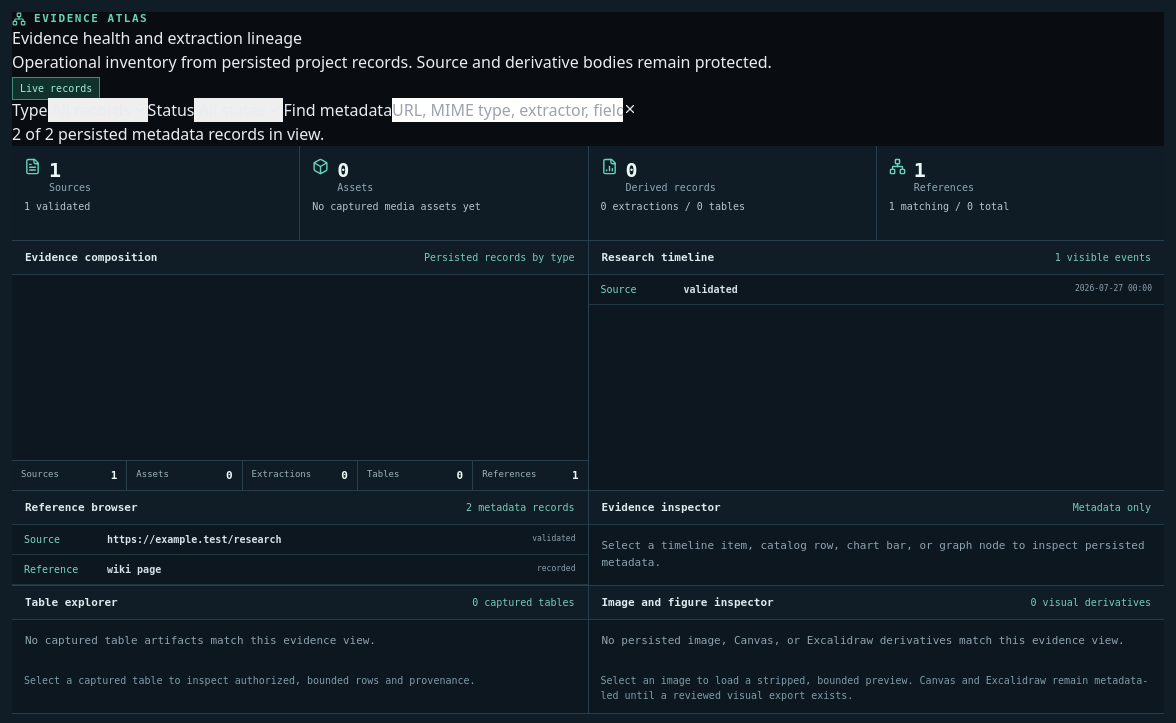
Scenario: EvidenceWorkspace graph projection › uses the composition controls to filter the persisted evidence inventory
Click the button with aria-label "Filter evidence to Sources: 1 records" at (69, 476), box [12,461,126,490]
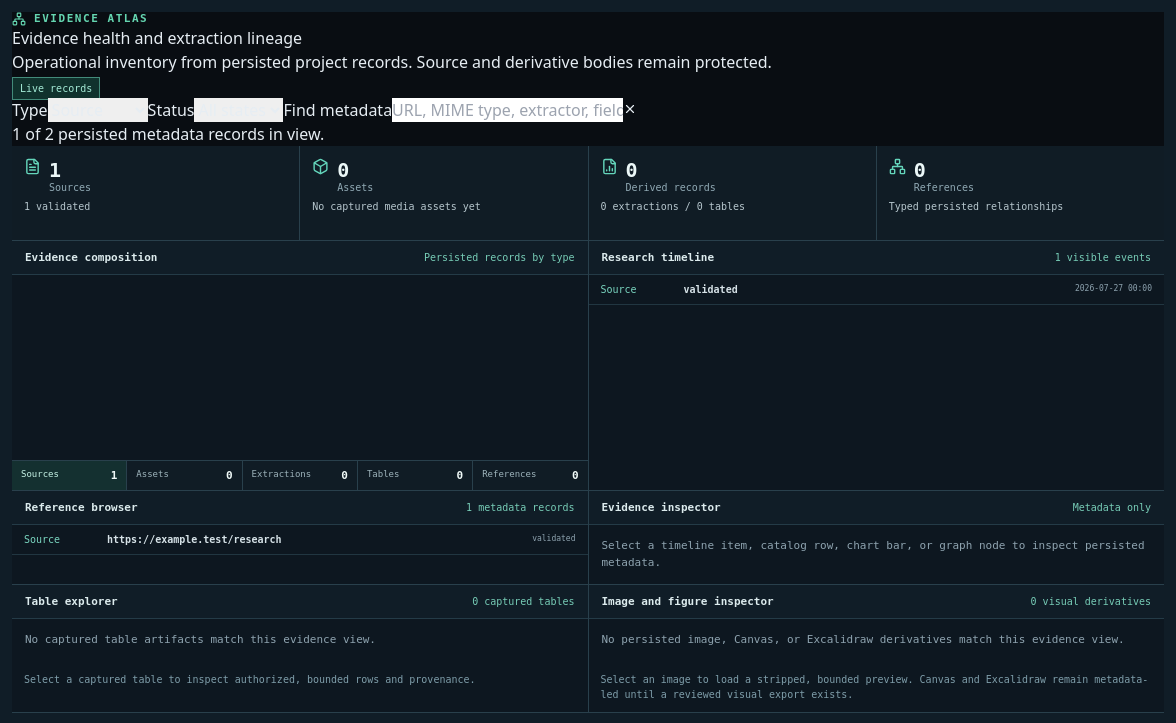
Expected: the dropdown named "Evidence record type" shows "Source", [48,98,148,122]
Expected: the text "1 of 2 persisted metadata records in view." is shown, [12,123,324,145]
